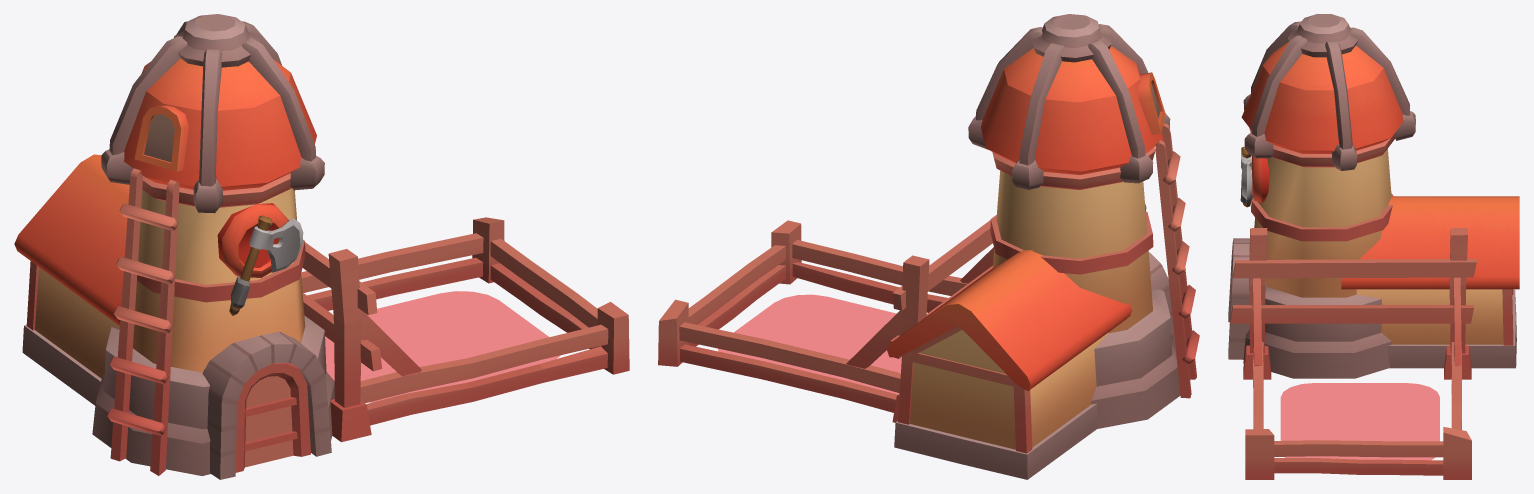
The model's file is AxeHouseV11.fbx.
3 views of the same model, side by side, from view 1: azimuth 30°, elevation 25°; view 2: azimuth 150°, elevation 25°; view 3: azimuth 270°, elevation 25° (orthographic). The views are drawn at different scales.
Parts seen in each view (by area): view 1: Cylinder.028; view 2: Cylinder.028; view 3: Cylinder.028.
Boxes of the visible parts, box(x1,y1,x2,y2) form: Cylinder.028: box(14, 14, 629, 479); Cylinder.028: box(658, 14, 1199, 479); Cylinder.028: box(1228, 14, 1519, 479).
Size of the model in its own units: 2.07 by 1.63 by 1.35.
